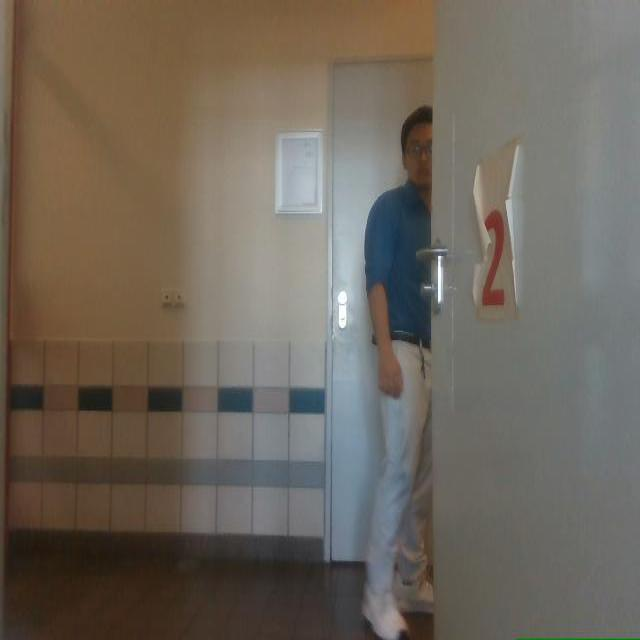humans: (363, 105, 433, 639)
objects: (424, 0, 639, 639)
